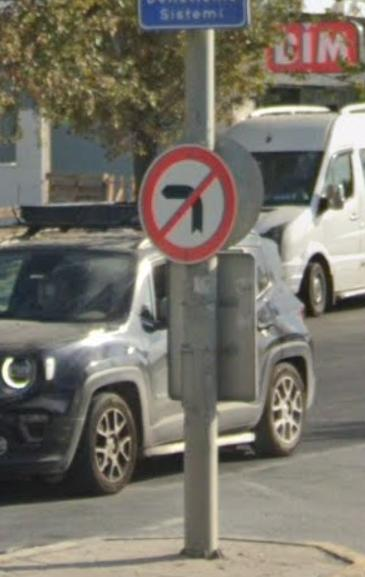leftturnsareforbidden: (138, 148, 238, 263)
